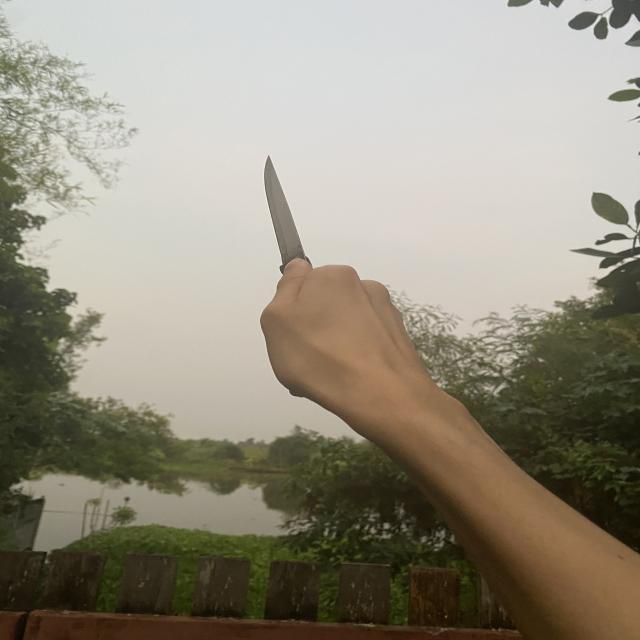faca: (222, 136, 450, 428)
